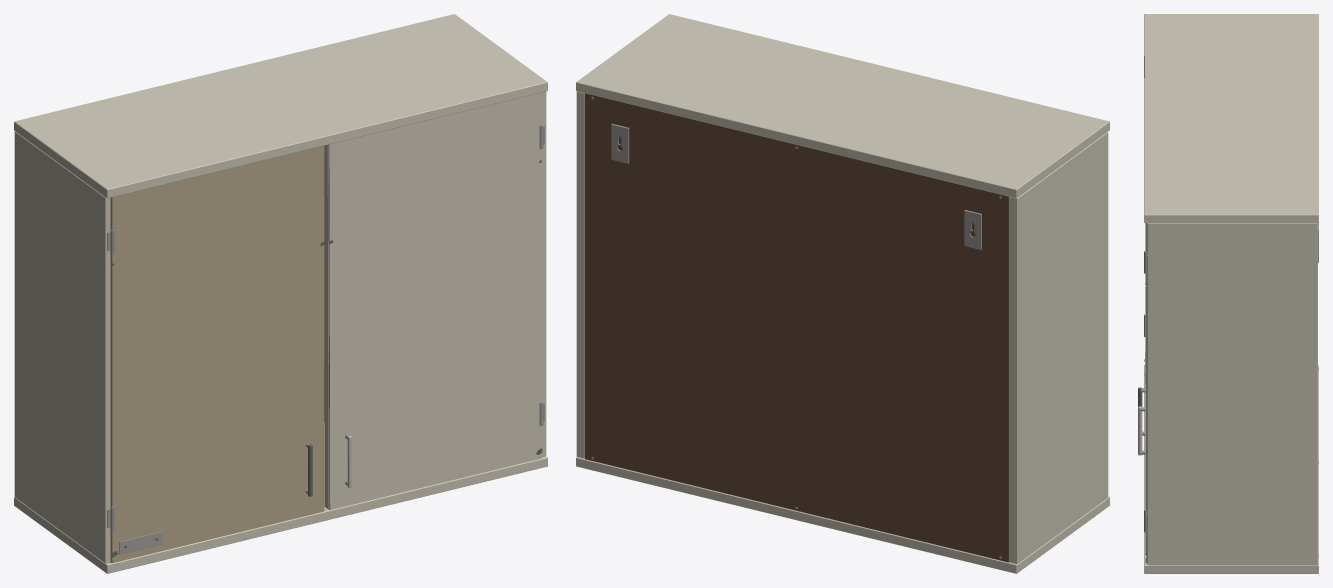
File: kitchen-wall-cabinet-c2d3999eecb5.glb
The picture shows the model from 3 angles, left to right: view 1: azimuth 30°, elevation 25°; view 2: azimuth 150°, elevation 25°; view 3: azimuth 270°, elevation 25°; orthographic projection. The views are drawn at different scales.
Parts seen in each view (by area): view 1: enamel, paint-rescued-cream, paint-rescued-beige, brushed, metal; view 2: wood, enamel, brushed; view 3: enamel, paint-rescued-cream, brushed, metal.
Part boxes in pixels (box(x1,y1,x2,y2)): enamel: box(14, 14, 547, 573); paint-rescued-cream: box(329, 92, 542, 509); paint-rescued-beige: box(111, 145, 324, 563); brushed: box(107, 124, 544, 554); metal: box(111, 145, 542, 562); wood: box(585, 93, 1008, 562); enamel: box(576, 14, 1109, 573); brushed: box(591, 97, 1001, 558); enamel: box(1144, 14, 1318, 573); paint-rescued-cream: box(1145, 223, 1146, 563); brushed: box(1140, 56, 1318, 556); metal: box(1138, 223, 1146, 562).
Size of the model in its own units: 0.9 by 0.75 by 0.342.
